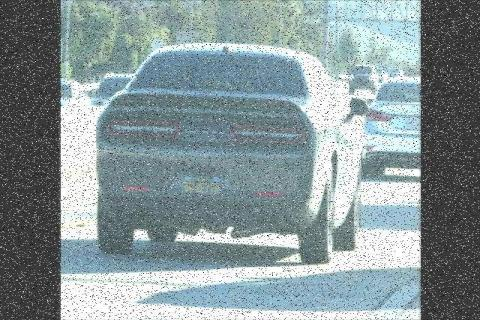LicensePlate: (184, 175, 224, 201), (404, 118, 420, 132)
